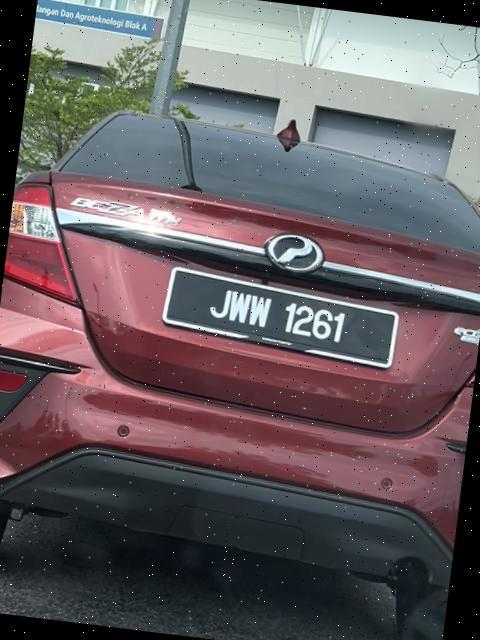JWW1261: (163, 265, 403, 370)
License_Plate: (163, 265, 403, 370)
